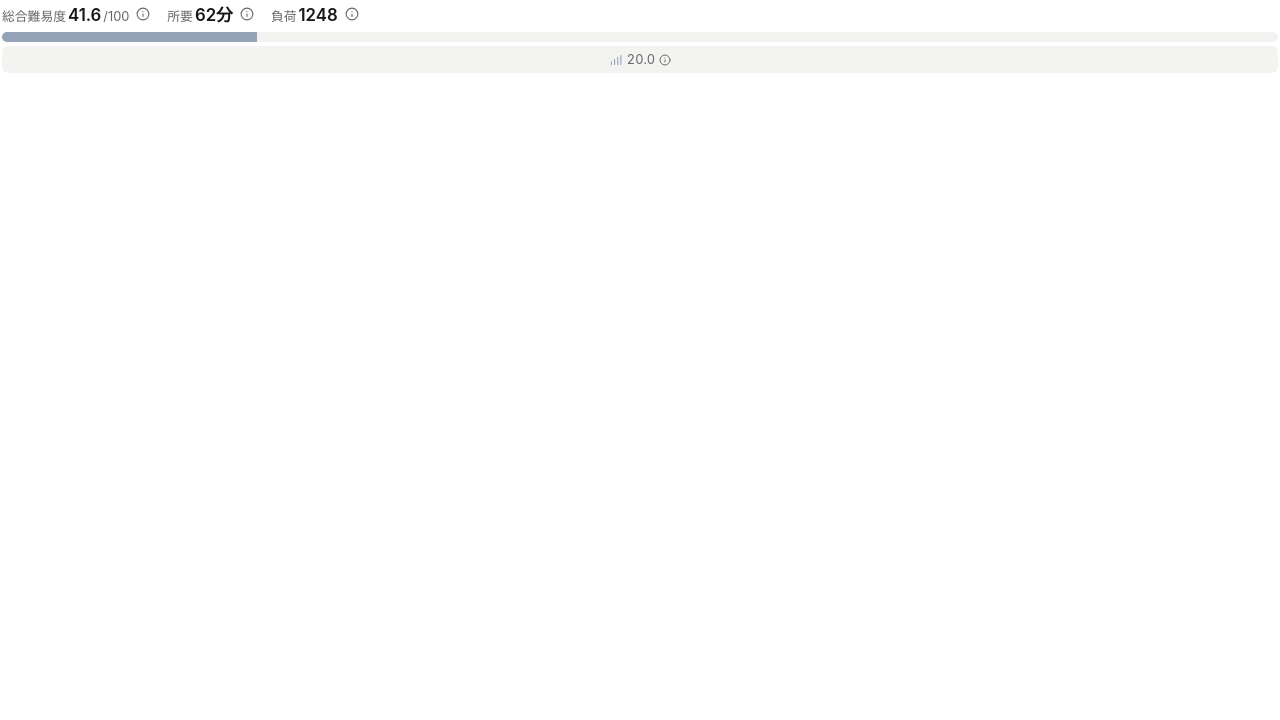
RouteAxisProfile › 軸の詳細は、名前・丸めた軸別難易度・生値と総量・材料の内訳・説明を並べる
Step 1. Click the button named "軸Aの詳細を表示" → click(640, 60), box [2, 46, 1278, 73]
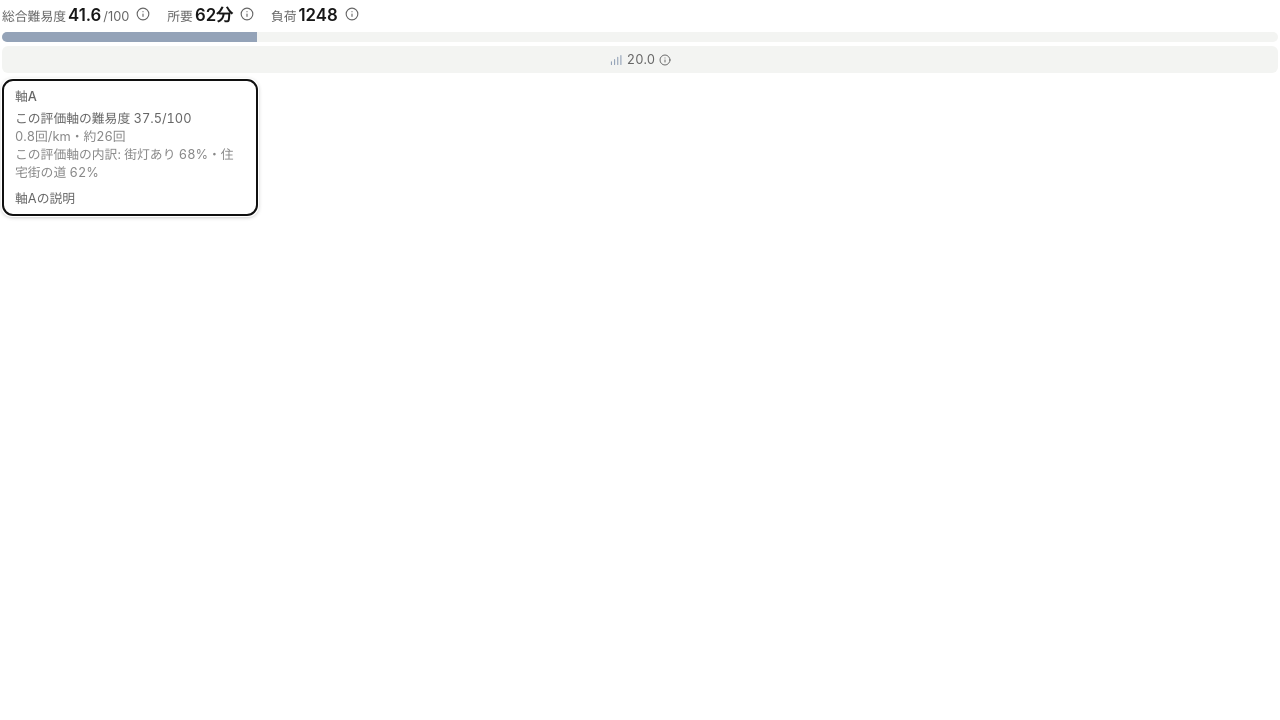
Now the dialog shows "軸A", box [15, 89, 37, 104]
Now the dialog shows "この評価軸の難易度 37.5/100", box [15, 111, 192, 126]
Now the dialog shows "0.8回/km・約26回", box [15, 129, 126, 144]
